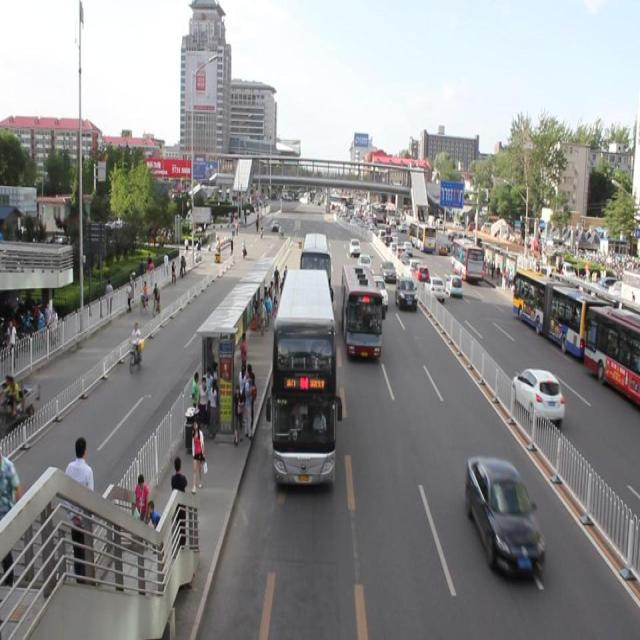car: (457, 452, 550, 579), (392, 274, 417, 312), (367, 272, 389, 310), (378, 254, 397, 280), (354, 251, 373, 274), (345, 236, 364, 255)
van: (265, 264, 342, 487), (336, 262, 387, 364), (298, 229, 335, 310)
